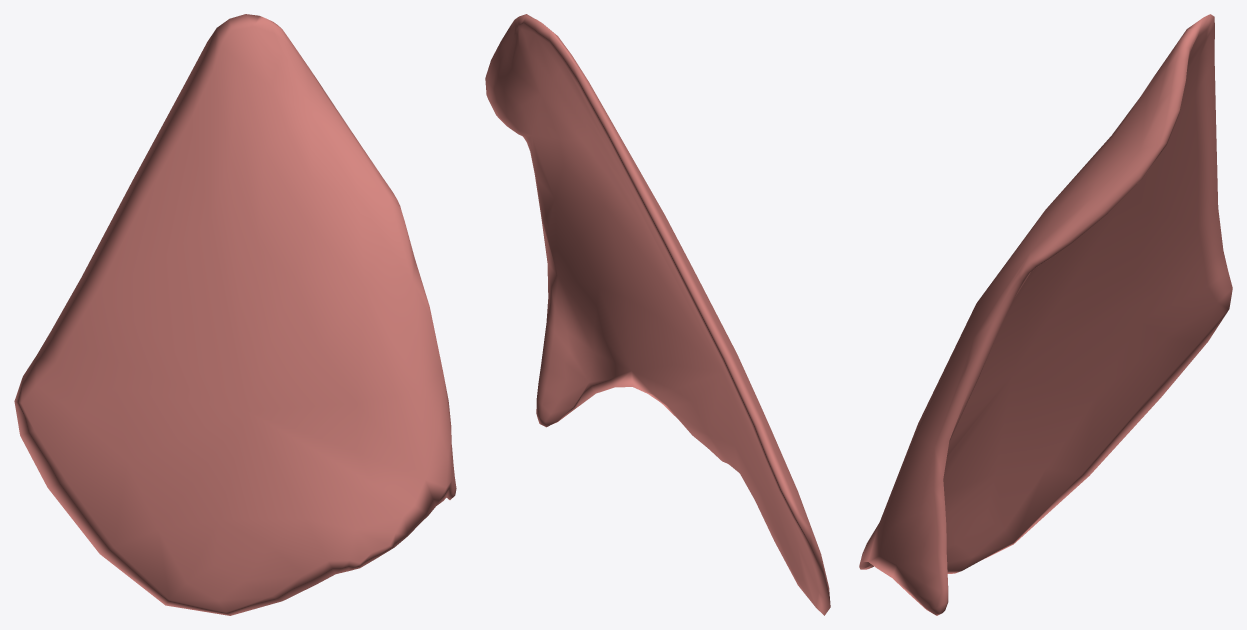
The picture shows the model from 3 angles, left to right: view 1: azimuth 30°, elevation 25°; view 2: azimuth 150°, elevation 25°; view 3: azimuth 270°, elevation 25°; orthographic projection. The views are drawn at different scales.
Visible parts, largest first — view 1: ZA_a853e0d9981ffc29; view 2: ZA_a853e0d9981ffc29; view 3: ZA_a853e0d9981ffc29.
Part boxes in pixels (x1,y1,x2,y2): ZA_a853e0d9981ffc29: (14, 14, 456, 615); ZA_a853e0d9981ffc29: (485, 14, 830, 615); ZA_a853e0d9981ffc29: (859, 14, 1232, 615).
Size of the model in its own units: 0.0138 by 0.0201 by 0.0109.
